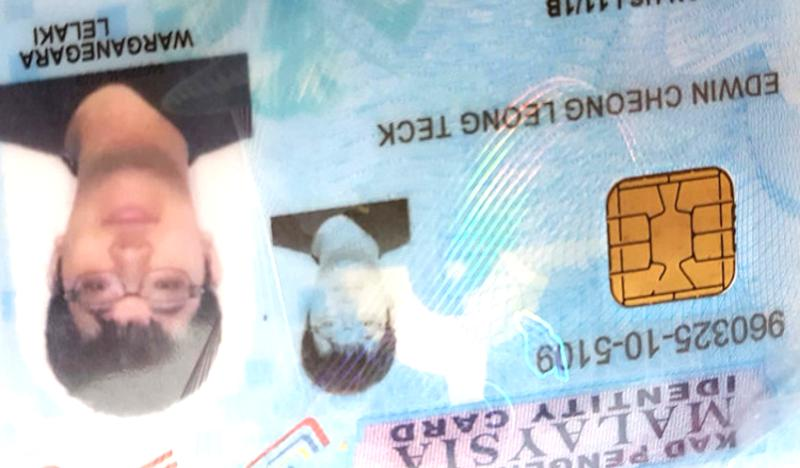hologram: (416, 139, 557, 311)
